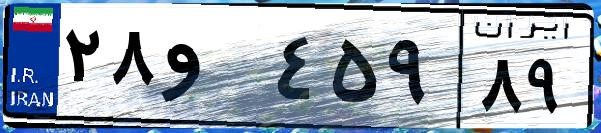2: (57, 26, 110, 100)
4: (270, 28, 330, 110)
5: (330, 28, 385, 110)
8: (475, 38, 525, 113), (110, 28, 158, 98)
9: (385, 28, 445, 110), (525, 38, 570, 115)
و: (158, 20, 270, 120)
